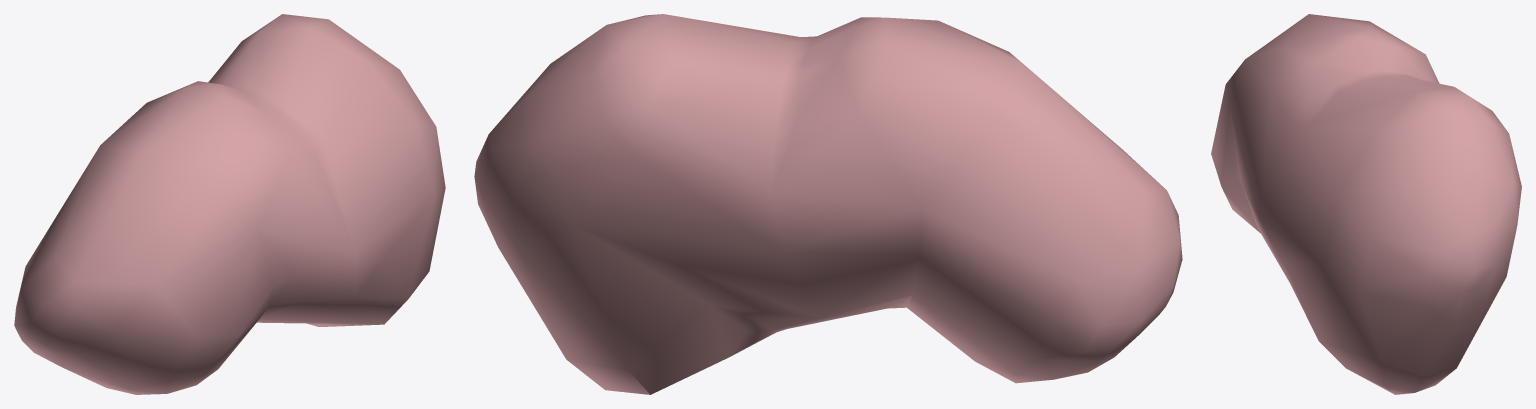
The model's file is fma16982_fj2610.glb.
3 views of the same model, side by side, from view 1: azimuth 30°, elevation 25°; view 2: azimuth 150°, elevation 25°; view 3: azimuth 270°, elevation 25° (orthographic). The views are drawn at different scales.
Visible parts, largest first — view 1: FMA16982_FJ2610; view 2: FMA16982_FJ2610; view 3: FMA16982_FJ2610.
Part boxes in pixels (x1,y1,x2,y2): FMA16982_FJ2610: (14,14,445,394); FMA16982_FJ2610: (474,14,1182,394); FMA16982_FJ2610: (1211,14,1521,394).
Bounding box in the file's own units: 0.0567 × 0.0344 × 0.0348.
